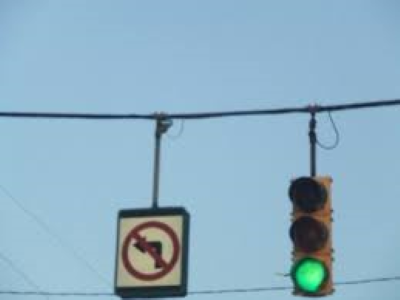trafficlight_green: (287, 176, 331, 296)
